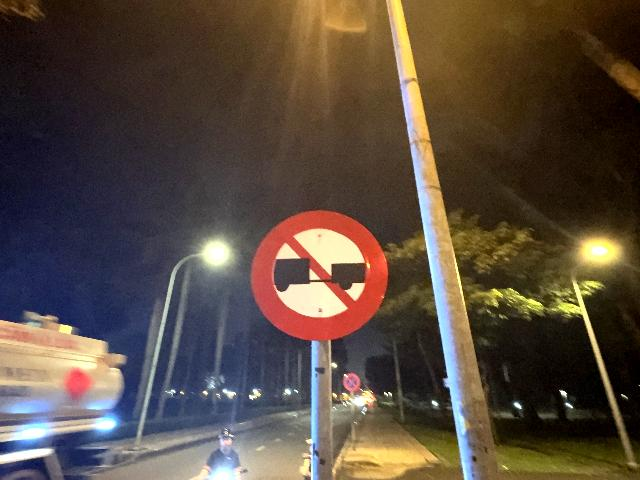cam-xe-somi-romooc: (249, 209, 388, 340)
